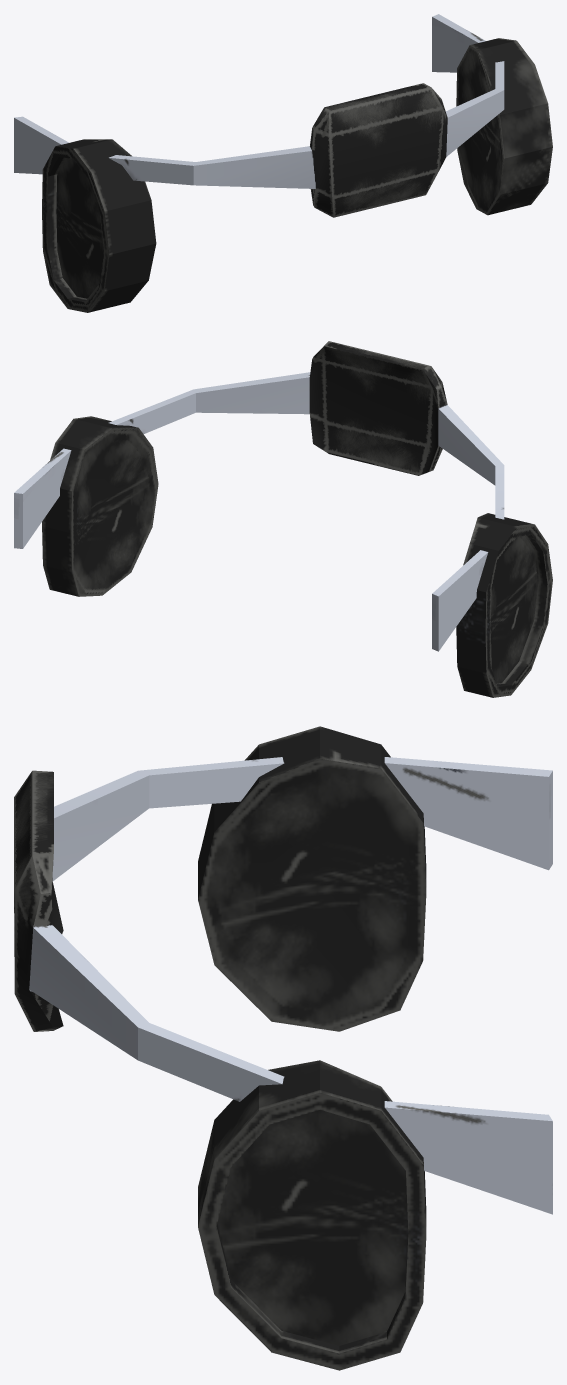
Rendered from TelesphereMask_part3.gltf.
The picture shows the model from 3 angles, top to bottom: view 1: azimuth 30°, elevation 25°; view 2: azimuth 150°, elevation 25°; view 3: azimuth 270°, elevation 25°; orthographic projection. The views are drawn at different scales.
Visible parts, largest first — view 1: Telesphere_part3; view 2: Telesphere_part3; view 3: Telesphere_part3.
Part boxes in pixels (x1=…): Telesphere_part3: x1=14, y1=14, x2=552, y2=312; Telesphere_part3: x1=14, y1=341, x2=552, y2=697; Telesphere_part3: x1=14, y1=726, x2=552, y2=1370.
Bounding box in the file's own units: 0.4825 × 0.2301 × 0.3001.
1 material, 1 textured.
